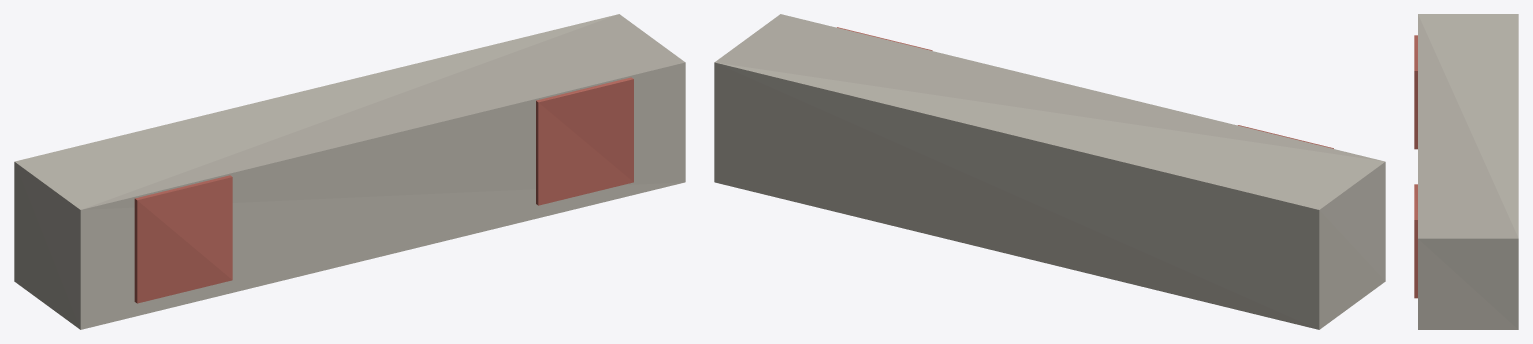
Rendered from barrier_redwhite.glb.
3 views of the same model, side by side, from view 1: azimuth 30°, elevation 25°; view 2: azimuth 150°, elevation 25°; view 3: azimuth 270°, elevation 25° (orthographic). The views are drawn at different scales.
Visible parts, largest first — view 1: base, red_panel_-0.63, red_panel_0.63; view 2: base; view 3: base, red_panel_-0.63, red_panel_0.63.
Part boxes in pixels (bbox=[...]): base: bbox=[14, 14, 685, 329]; red_panel_-0.63: bbox=[134, 175, 232, 303]; red_panel_0.63: bbox=[536, 77, 633, 205]; base: bbox=[714, 14, 1385, 329]; base: bbox=[1418, 14, 1518, 329]; red_panel_-0.63: bbox=[1414, 35, 1417, 149]; red_panel_0.63: bbox=[1414, 184, 1417, 298].
Bounding box in the file's own units: 1.9 × 0.36 × 0.3735.
